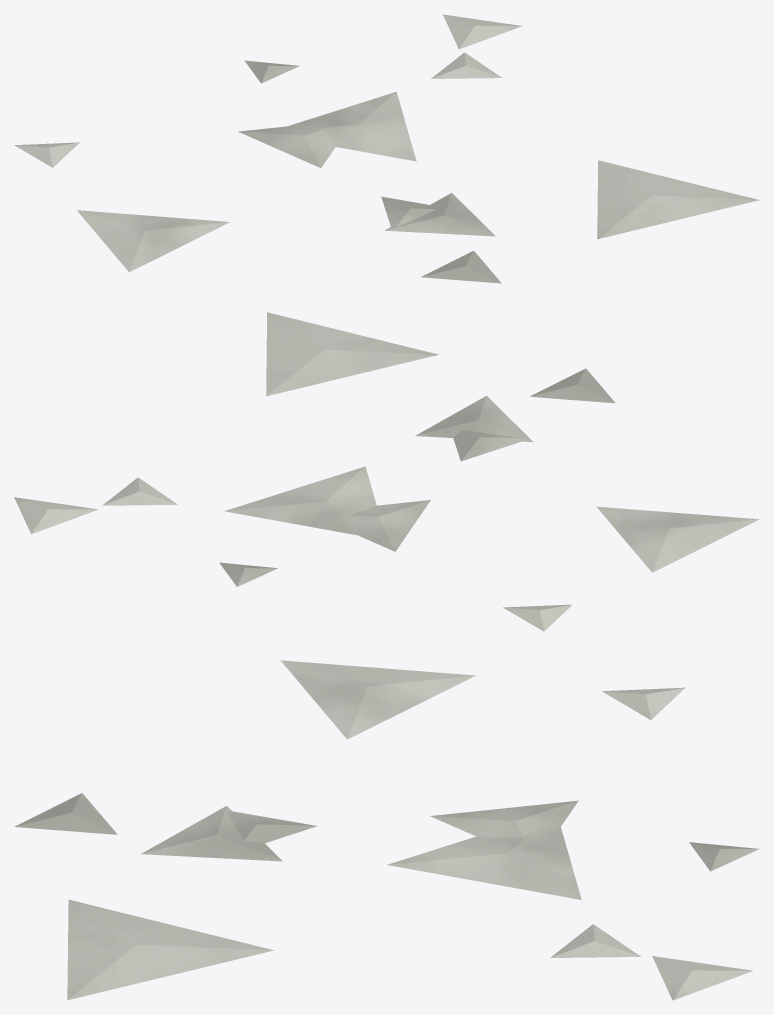
File: D03_glass_shards_v1.glb
The picture shows the model from 3 angles, top to bottom: view 1: azimuth 30°, elevation 25°; view 2: azimuth 150°, elevation 25°; view 3: azimuth 270°, elevation 25°; orthographic projection. The views are drawn at different scales.
Visible parts, largest first — view 1: D03_glass_shards_v1; view 2: D03_glass_shards_v1; view 3: D03_glass_shards_v1.
Part boxes in pixels (x1,y1,x2,y2): D03_glass_shards_v1: [14, 14, 759, 283]; D03_glass_shards_v1: [14, 312, 759, 631]; D03_glass_shards_v1: [14, 660, 759, 1000].
Bounding box in the file's own units: 0.4 × 0.00295 × 0.3706.
Materials: 1 (1 with a texture image).
